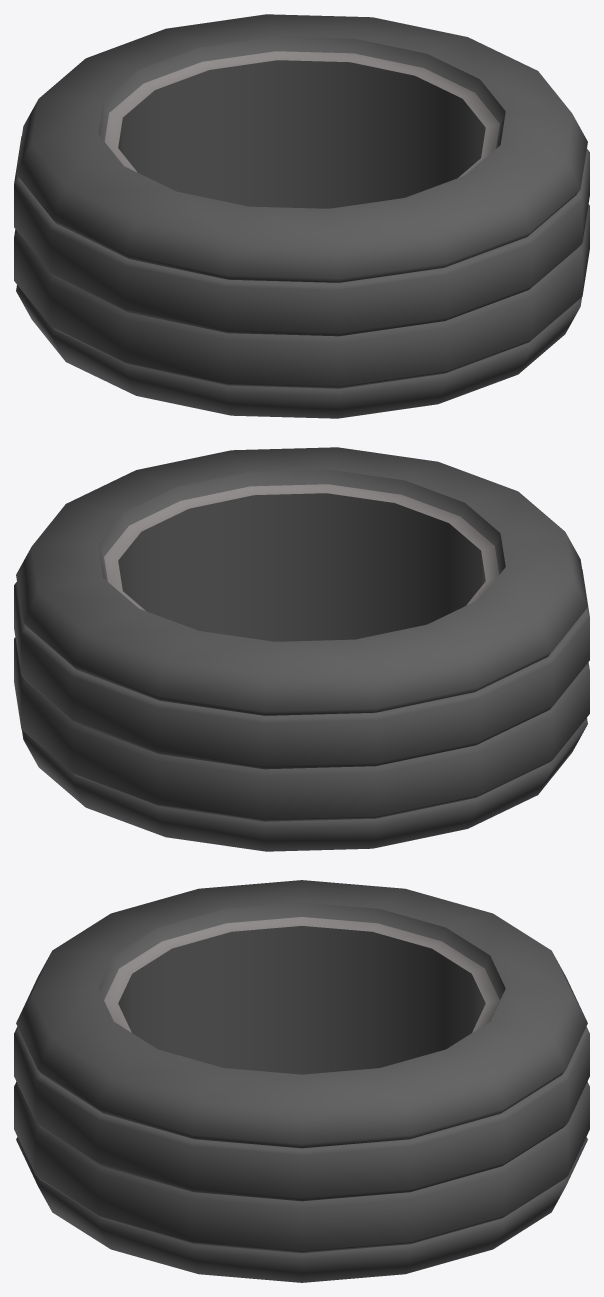
File: Wheel.glb
3 views of the same model, one above another, from view 1: azimuth 30°, elevation 25°; view 2: azimuth 150°, elevation 25°; view 3: azimuth 270°, elevation 25° (orthographic).
Visible parts, largest first — view 1: Wheel; view 2: Wheel; view 3: Wheel.
Boxes of the visible parts, x1,y1,x2,y2 form: Wheel: [14, 14, 589, 418]; Wheel: [14, 447, 589, 851]; Wheel: [14, 880, 589, 1282].
Bounding box in the file's own units: 0.573 × 0.2041 × 0.573.
Materials: 1 (1 with a texture image).
